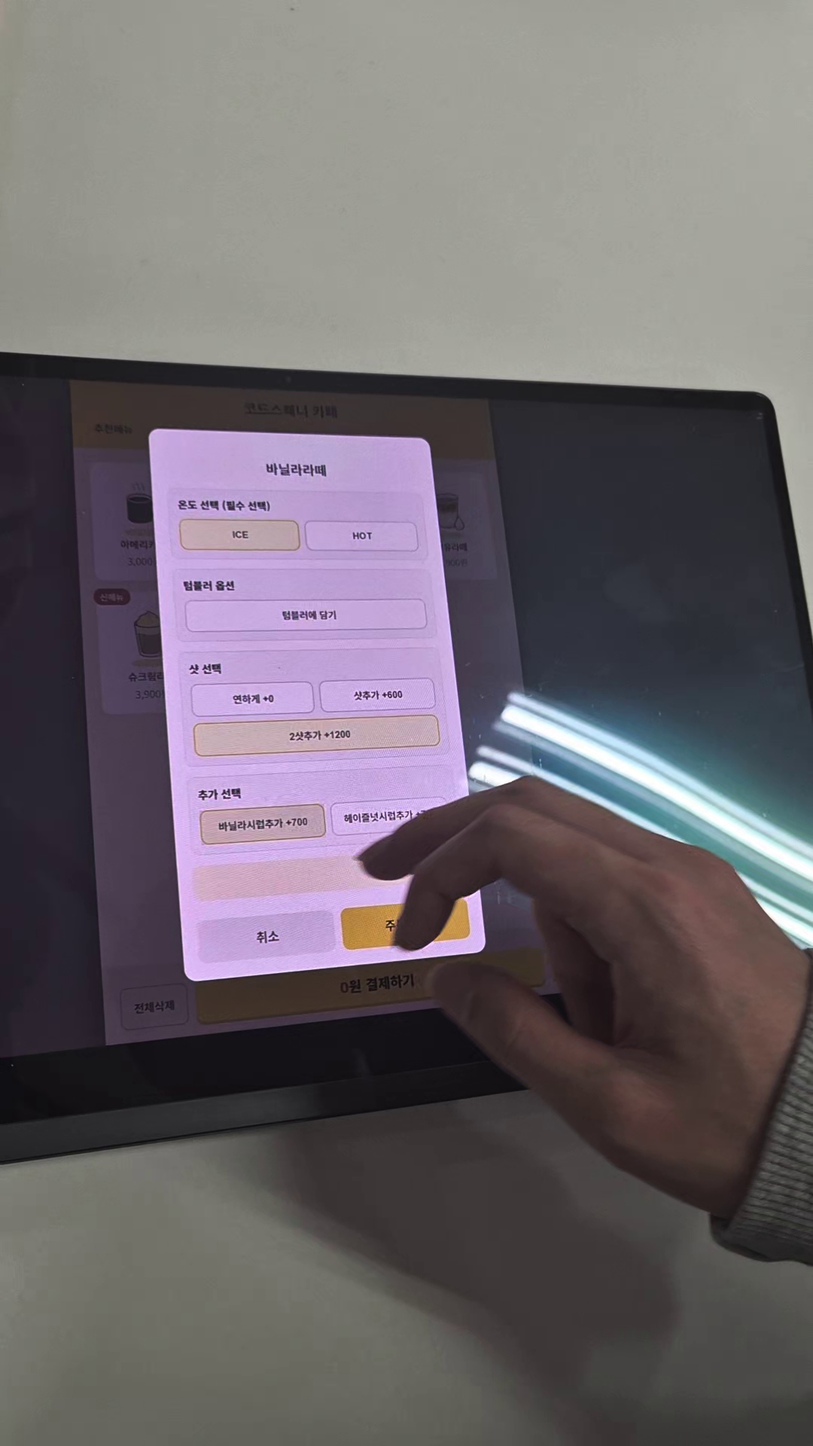action_button: (197, 911, 334, 962), (340, 898, 471, 949)
option_button: (194, 714, 440, 758), (187, 599, 426, 633), (332, 795, 457, 837), (200, 804, 325, 845), (192, 682, 313, 717), (180, 518, 299, 551), (306, 520, 418, 554), (321, 679, 435, 712)
popup_modal: (148, 428, 484, 981)
